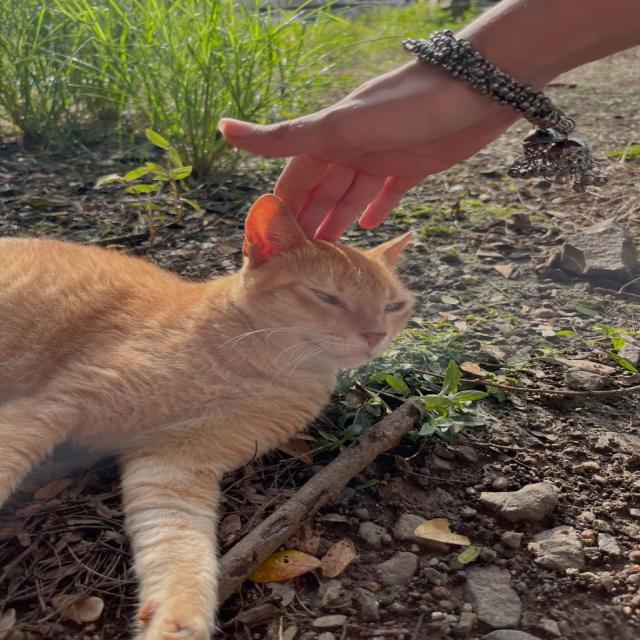sarman: (0, 102, 491, 640)
